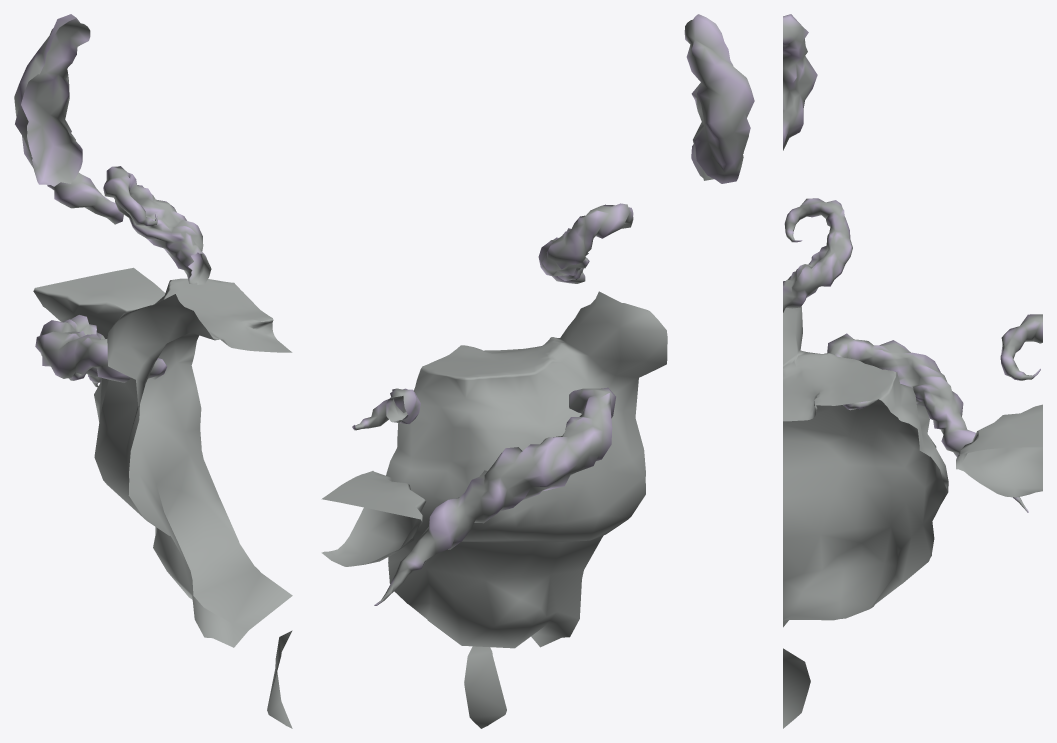
3 views of the same model, side by side, from view 1: azimuth 30°, elevation 25°; view 2: azimuth 150°, elevation 25°; view 3: azimuth 270°, elevation 25° (orthographic). The views are drawn at different scales.
Parts seen in each view (by area): view 1: G:\FFXIV-MapTools\exports\a2f2\bg\ex1\03_abr_a2\fld\a2f2\bgp (×5); view 2: G:\FFXIV-MapTools\exports\a2f2\bg\ex1\03_abr_a2\fld\a2f2\bgp (×5); view 3: G:\FFXIV-MapTools\exports\a2f2\bg\ex1\03_abr_a2\fld\a2f2\bgp (×5).
Part boxes in pixels (x1,y1,x2,y2): G:\FFXIV-MapTools\exports\a2f2\bg\ex1\03_abr_a2\fld\a2f2\bgp (×5): [14, 14, 292, 728]; G:\FFXIV-MapTools\exports\a2f2\bg\ex1\03_abr_a2\fld\a2f2\bgp (×5): [321, 14, 754, 728]; G:\FFXIV-MapTools\exports\a2f2\bg\ex1\03_abr_a2\fld\a2f2\bgp (×5): [783, 14, 1042, 728].
Bounding box in the file's own units: 127 × 340 × 128.
